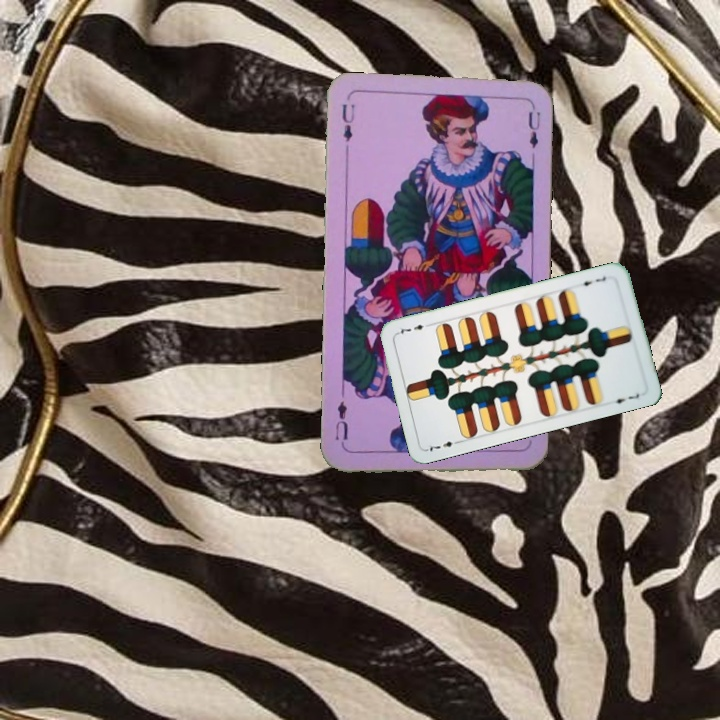E7: (424, 437, 463, 454), (575, 272, 609, 289)
EU: (338, 99, 357, 144)
